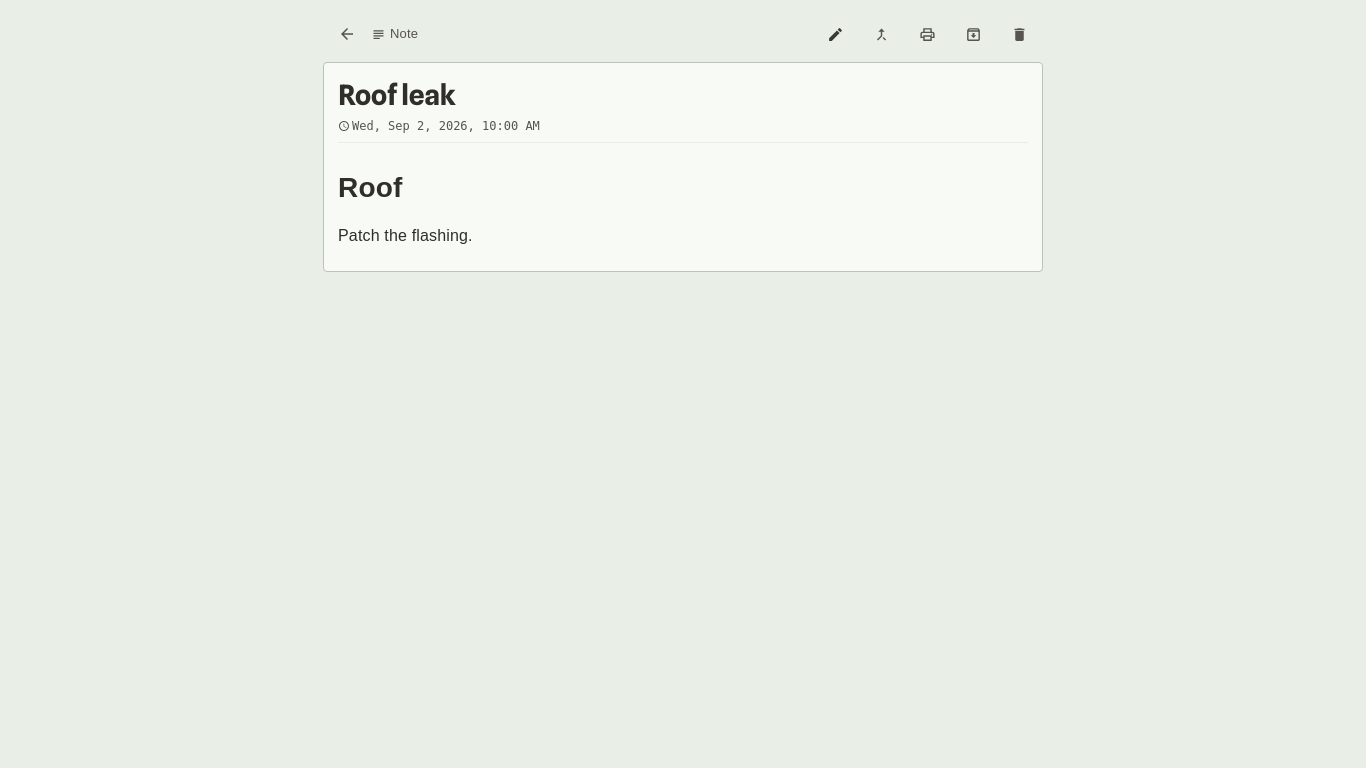
Test: Archive from the viewer › archives this note, the banner appears, and the toast has Undo
The image size is (1366, 768).
Click the button named "Archive": (973, 34) [951,12,995,56]
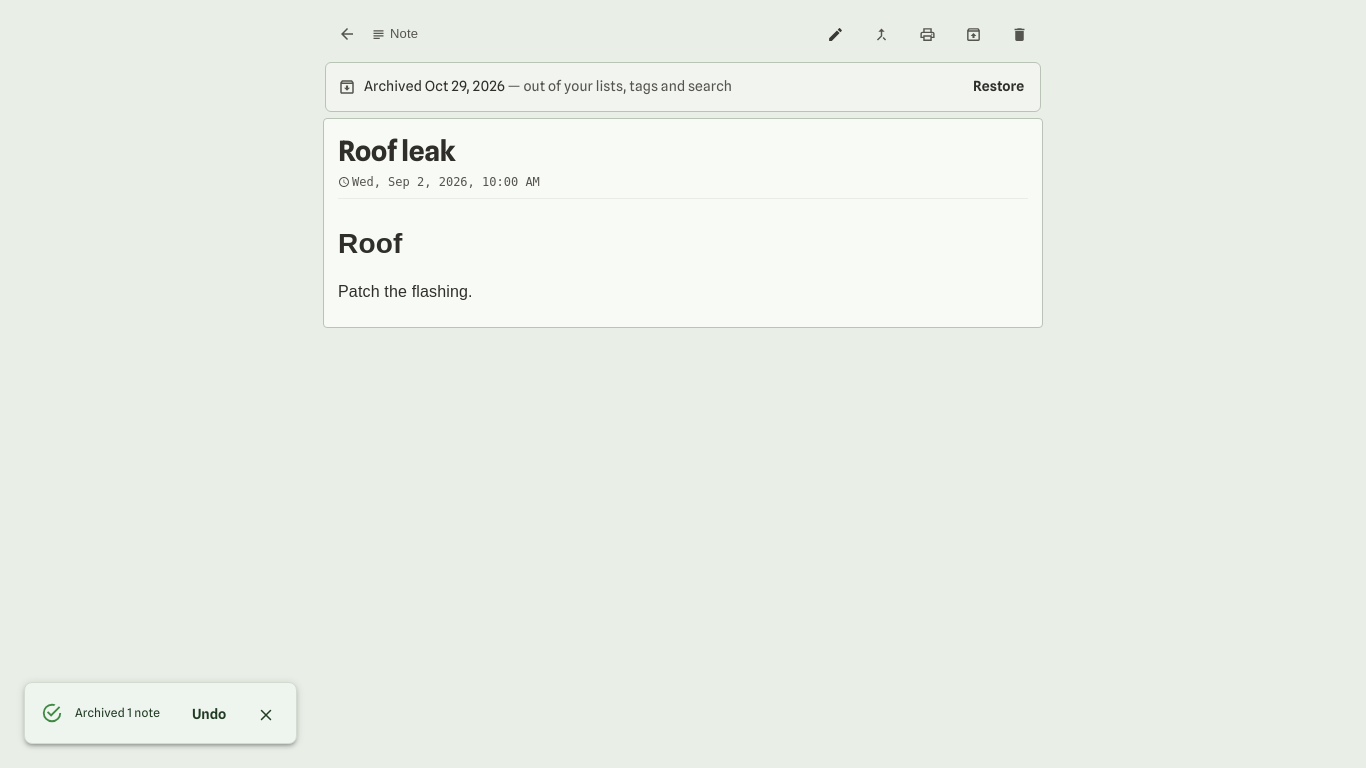
Now the element that starts with "Archived" is shown, box [325,62,1041,112]
Now the text "Archived 1 note" is shown, box [75,705,160,720]
Now the button "Undo" is shown, box [176,693,242,737]
